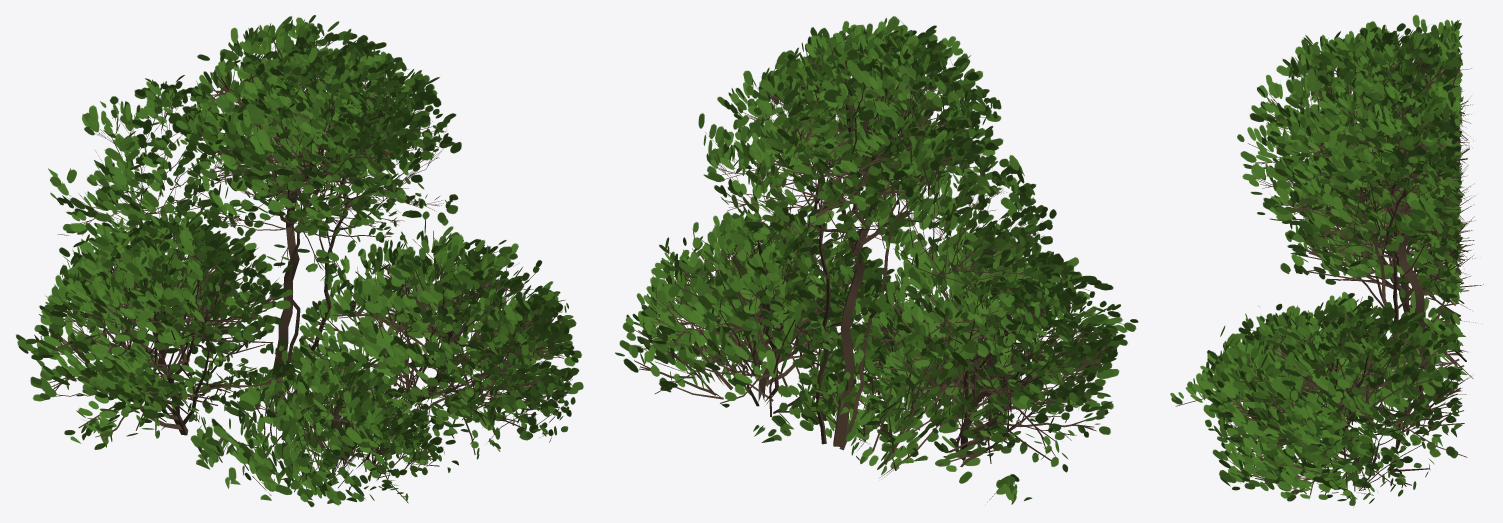
The picture shows the model from 3 angles, left to right: view 1: azimuth 30°, elevation 25°; view 2: azimuth 150°, elevation 25°; view 3: azimuth 270°, elevation 25°; orthographic projection. The views are drawn at different scales.
Visible parts, largest first — view 1: oak 01.001_trunk_Mat.001_0.429; view 2: oak 01.001_trunk_Mat.001_0.429; view 3: oak 01.001_trunk_Mat.001_0.429.
Boxes of the visible parts, x1=… form: oak 01.001_trunk_Mat.001_0.429: x1=16, y1=15, x2=583, y2=507; oak 01.001_trunk_Mat.001_0.429: x1=615, y1=16, x2=1138, y2=504; oak 01.001_trunk_Mat.001_0.429: x1=1170, y1=14, x2=1483, y2=506.
Bounding box in the file's own units: 6 × 4.85 × 3.54.
Materials: 2 (1 with a texture image).
